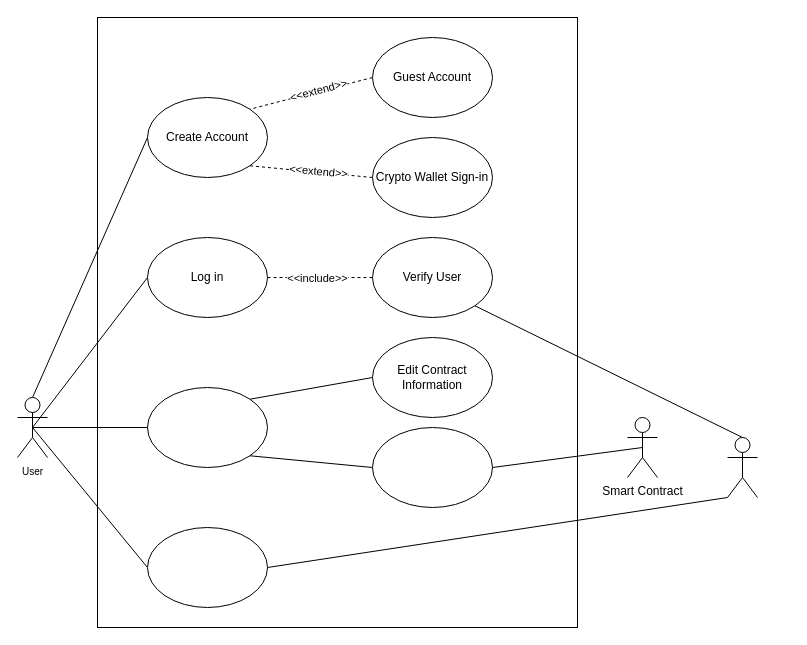
Some shapes in this 807 by 645 pixel diagram are drawn without their labels. The shapes that lost their labels are listed below. From the top down, each one's box as (x1, y1, x2, y2) in pixels, then its label:
(146, 386, 268, 468): Add Contract
(372, 426, 492, 508): Publish Contract
(726, 436, 758, 498): Blockchain Database
(146, 526, 268, 608): View Contract
